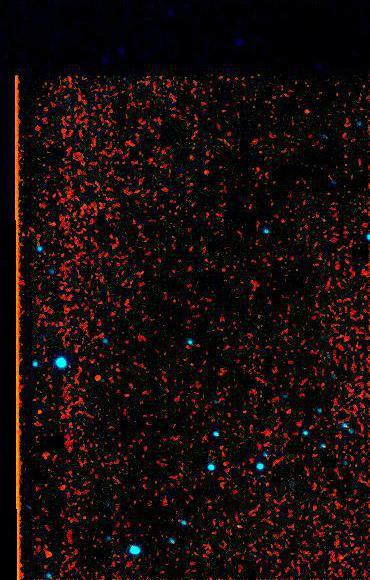star: (291, 98, 321, 128)
